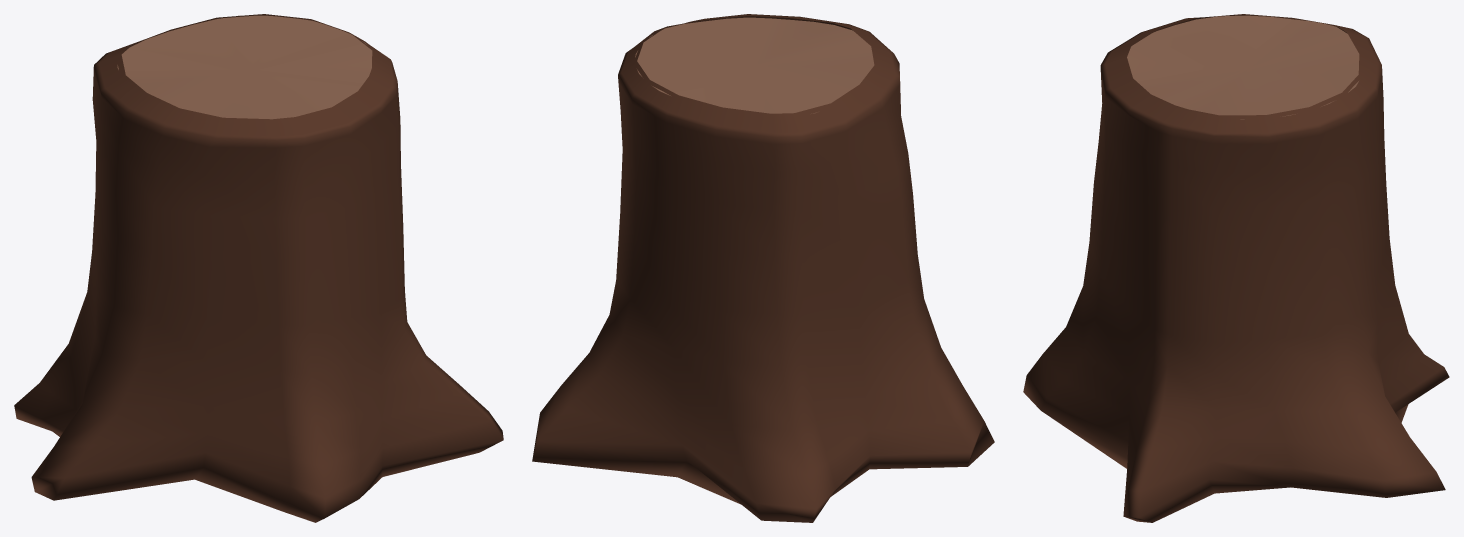
The model's file is TreeTrunk.fbx.
3 renders of one model, left to right at view 1: azimuth 30°, elevation 25°; view 2: azimuth 150°, elevation 25°; view 3: azimuth 270°, elevation 25°, orthographic. The views are drawn at different scales.
Parts seen in each view (by area): view 1: Tree body, top Tree; view 2: Tree body, top Tree; view 3: Tree body, top Tree.
Boxes of the visible parts, bbox=[...] form: Tree body: bbox=[14, 14, 503, 522]; top Tree: bbox=[117, 15, 372, 119]; Tree body: bbox=[532, 14, 994, 522]; top Tree: bbox=[635, 17, 874, 113]; Tree body: bbox=[1023, 14, 1449, 522]; top Tree: bbox=[1127, 15, 1359, 119].
Size of the model in its own units: 3.26 by 2.9 by 2.96.
